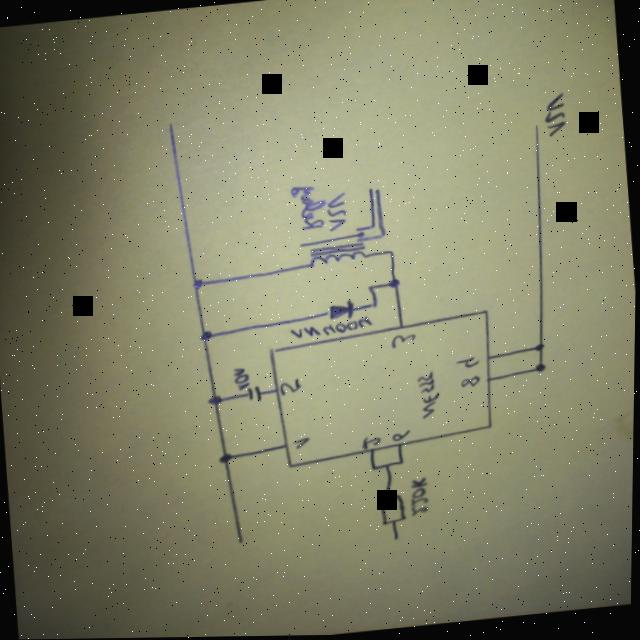capacitor: (246, 385, 264, 404)
diode: (325, 300, 357, 324)
junction: (198, 330, 214, 344), (208, 395, 225, 408), (218, 453, 235, 466), (190, 279, 204, 292), (387, 279, 401, 290), (535, 364, 548, 375), (534, 345, 546, 354), (365, 285, 378, 293), (370, 302, 380, 311), (379, 233, 388, 240), (399, 460, 407, 467), (371, 467, 379, 474), (388, 250, 396, 257), (369, 225, 377, 232), (385, 463, 392, 470)
resistor: (377, 494, 410, 529)
terminal: (237, 536, 247, 547), (166, 121, 176, 131), (297, 241, 306, 251), (530, 124, 541, 132), (394, 536, 402, 543), (375, 189, 382, 196), (368, 188, 375, 195)
text: (288, 184, 330, 234), (289, 317, 374, 341), (416, 371, 444, 422), (541, 94, 568, 139), (324, 192, 349, 234), (409, 478, 432, 518), (232, 367, 251, 392), (389, 334, 418, 350), (279, 379, 303, 398), (455, 357, 481, 371), (362, 436, 383, 452), (460, 376, 483, 390), (293, 437, 312, 451), (392, 431, 412, 444)
